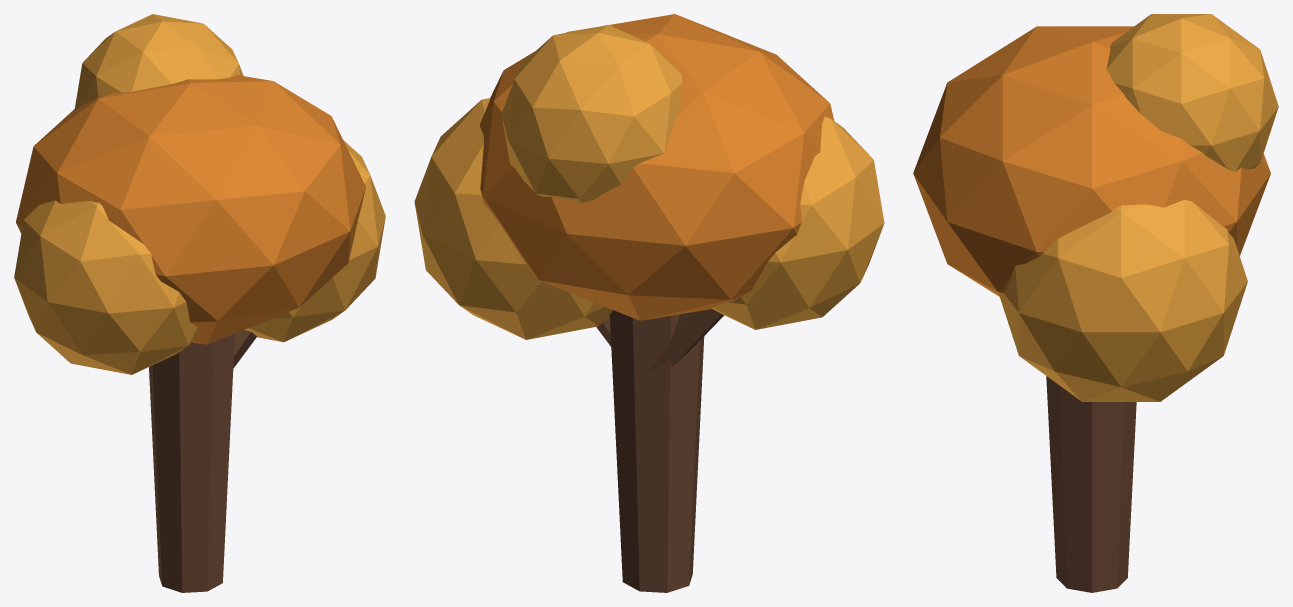
File: tree_autumn.glb
The picture shows the model from 3 angles, left to right: view 1: azimuth 30°, elevation 25°; view 2: azimuth 150°, elevation 25°; view 3: azimuth 270°, elevation 25°; orthographic projection. The views are drawn at different scales.
Parts seen in each view (by area): view 1: tree_autumn; view 2: tree_autumn; view 3: tree_autumn.
Part boxes in pixels (left/top/right/bottom): tree_autumn: left=14, top=14, right=385, bottom=592; tree_autumn: left=414, top=14, right=884, bottom=592; tree_autumn: left=913, top=14, right=1278, bottom=592.
Size of the model in its own units: 2.81 by 3.85 by 2.25.
